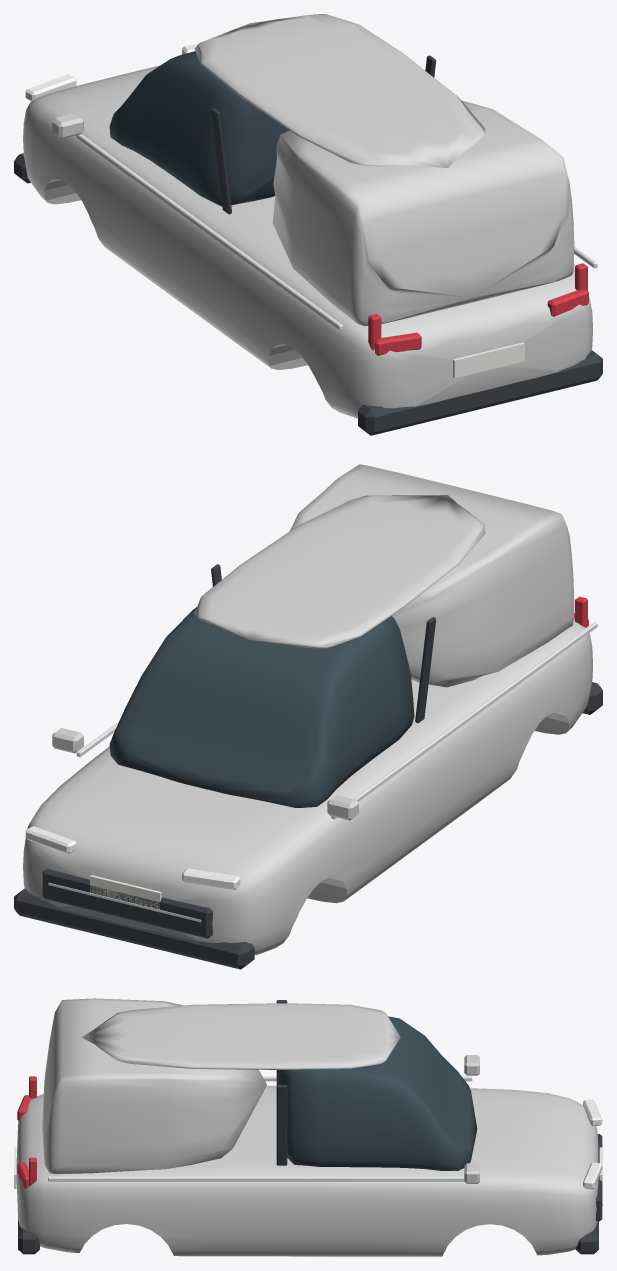
The model's file is van.glb.
The picture shows the model from 3 angles, top to bottom: view 1: azimuth 30°, elevation 25°; view 2: azimuth 150°, elevation 25°; view 3: azimuth 270°, elevation 25°; orthographic projection. The views are drawn at different scales.
Parts seen in each view (by area): view 1: paint_body, paint_cargo, roof, glass_house, bumper_r, chrome_beltline, plate.001, black_bpillar, tail_lamp, tail_lamp.001, head_lamp, mirror; view 2: paint_body, glass_house, roof, paint_cargo, bumper_f, black_grille, chrome_beltline, plate, black_bpillar, head_lamp, head_lamp.001; view 3: paint_body, paint_cargo, glass_house, roof, chrome_beltline.001, black_bpillar.001, bumper_r, bumper_f, black_grille, head_lamp.001, head_lamp.
Boxes of the visible parts, box(x1,y1,x2,y2) form: paint_body: box(23, 65, 592, 418); paint_cargo: box(272, 100, 574, 326); roof: box(194, 14, 485, 167); glass_house: box(109, 51, 289, 206); bumper_r: box(358, 350, 602, 435); chrome_beltline: box(76, 134, 342, 330); plate.001: box(453, 342, 524, 378); black_bpillar: box(211, 108, 231, 214); tail_lamp: box(374, 332, 421, 355); tail_lamp.001: box(547, 289, 588, 316); head_lamp: box(25, 74, 76, 101); mirror: box(52, 113, 83, 138); paint_body: box(23, 619, 592, 955); glass_house: box(109, 607, 414, 807); roof: box(194, 495, 485, 648); paint_cargo: box(289, 464, 574, 687); bumper_f: box(14, 888, 254, 969); black_grille: box(42, 868, 212, 938); chrome_beltline: box(331, 622, 597, 819); plate: box(90, 875, 161, 909); black_bpillar: box(415, 617, 436, 723); head_lamp: box(182, 868, 240, 889); head_lamp.001: box(25, 826, 76, 853); paint_body: box(16, 1085, 598, 1256); paint_cargo: box(42, 998, 266, 1174); glass_house: box(276, 1016, 477, 1170); roof: box(82, 1003, 400, 1069); chrome_beltline.001: box(48, 1176, 464, 1181); black_bpillar.001: box(276, 1085, 287, 1165); bumper_r: box(18, 1219, 39, 1254); bumper_f: box(575, 1221, 598, 1254); black_grille: box(595, 1134, 602, 1221); head_lamp.001: box(583, 1162, 602, 1189); head_lamp: box(583, 1099, 602, 1126).
Bounding box in the file's own units: 2.14 × 1.54 × 4.5.
